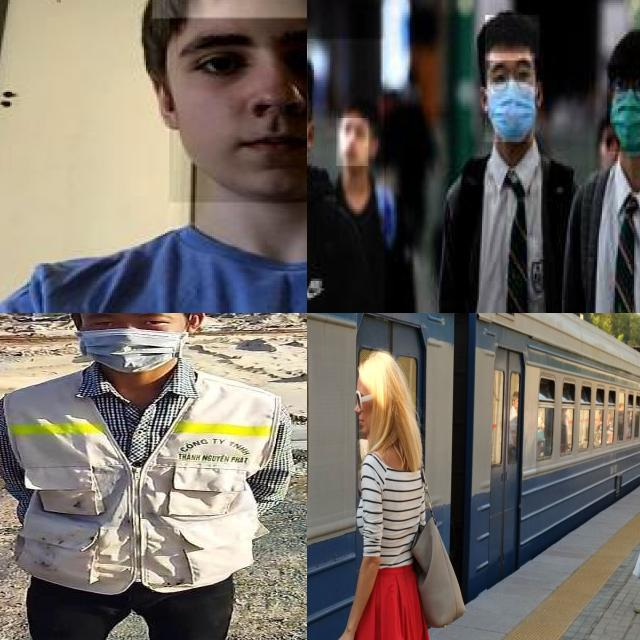No_Ear-Protection: (186, 313, 207, 339)
No_Glasses: (165, 15, 307, 92), (82, 313, 175, 330)
face_mask: (78, 328, 186, 372), (486, 54, 536, 144), (607, 65, 640, 153)
face_nomask: (169, 16, 307, 202), (336, 118, 370, 168)
glasses: (484, 56, 539, 98), (609, 68, 640, 107)
head_nohelmet: (485, 15, 541, 60), (605, 24, 640, 79)
person: (0, 313, 295, 640), (0, 0, 307, 313), (408, 0, 589, 313), (307, 38, 386, 313), (571, 12, 640, 313)
